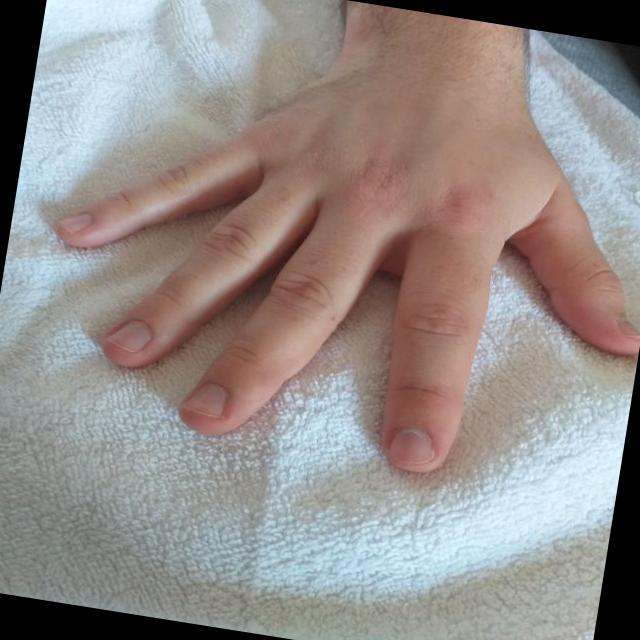Nail: (387, 427, 435, 466), (182, 383, 229, 418), (107, 321, 152, 353), (61, 213, 92, 233), (619, 320, 639, 338)
